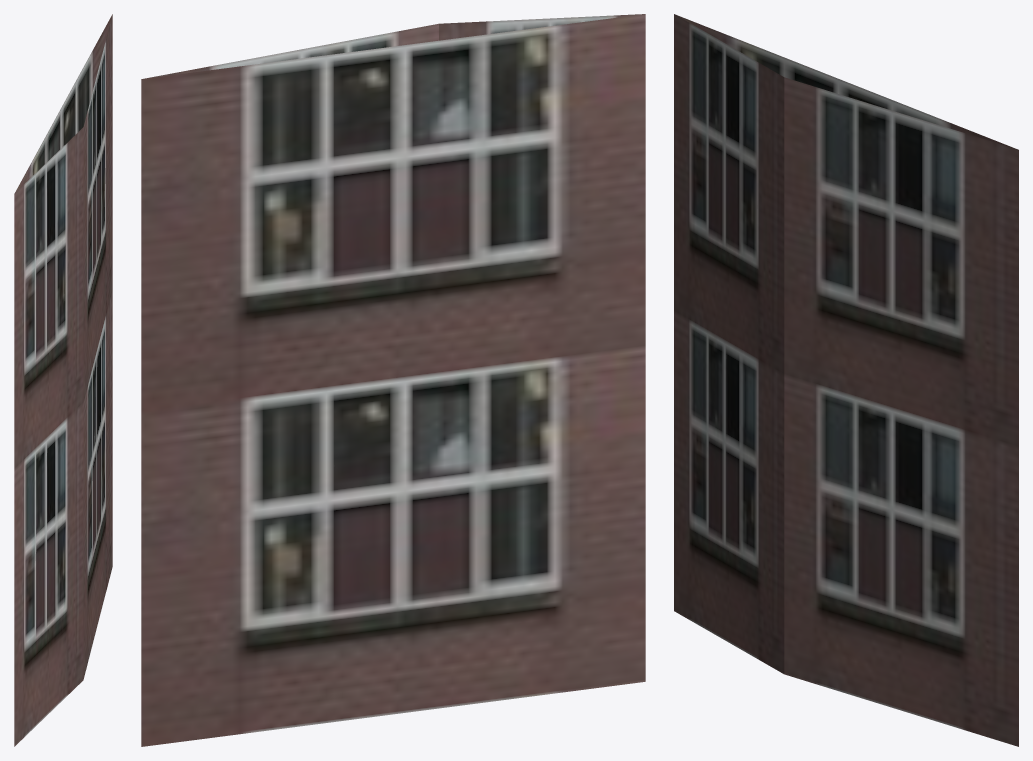
File: ResTex__3529.fbx
The picture shows the model from 3 angles, left to right: view 1: azimuth 30°, elevation 25°; view 2: azimuth 150°, elevation 25°; view 3: azimuth 270°, elevation 25°; orthographic projection. The views are drawn at different scales.
Visible parts, largest first — view 1: CityEngineMaterial_12_m; view 2: CityEngineMaterial_12_m; view 3: CityEngineMaterial_12_m.
Boxes of the visible parts, x1,y1,x2,y2 form: CityEngineMaterial_12_m: (14, 14, 112, 746); CityEngineMaterial_12_m: (141, 14, 645, 746); CityEngineMaterial_12_m: (674, 14, 1018, 746).
Size of the model in its own units: 2.93 by 6 by 3.14.
Materials: 1 (1 with a texture image).
